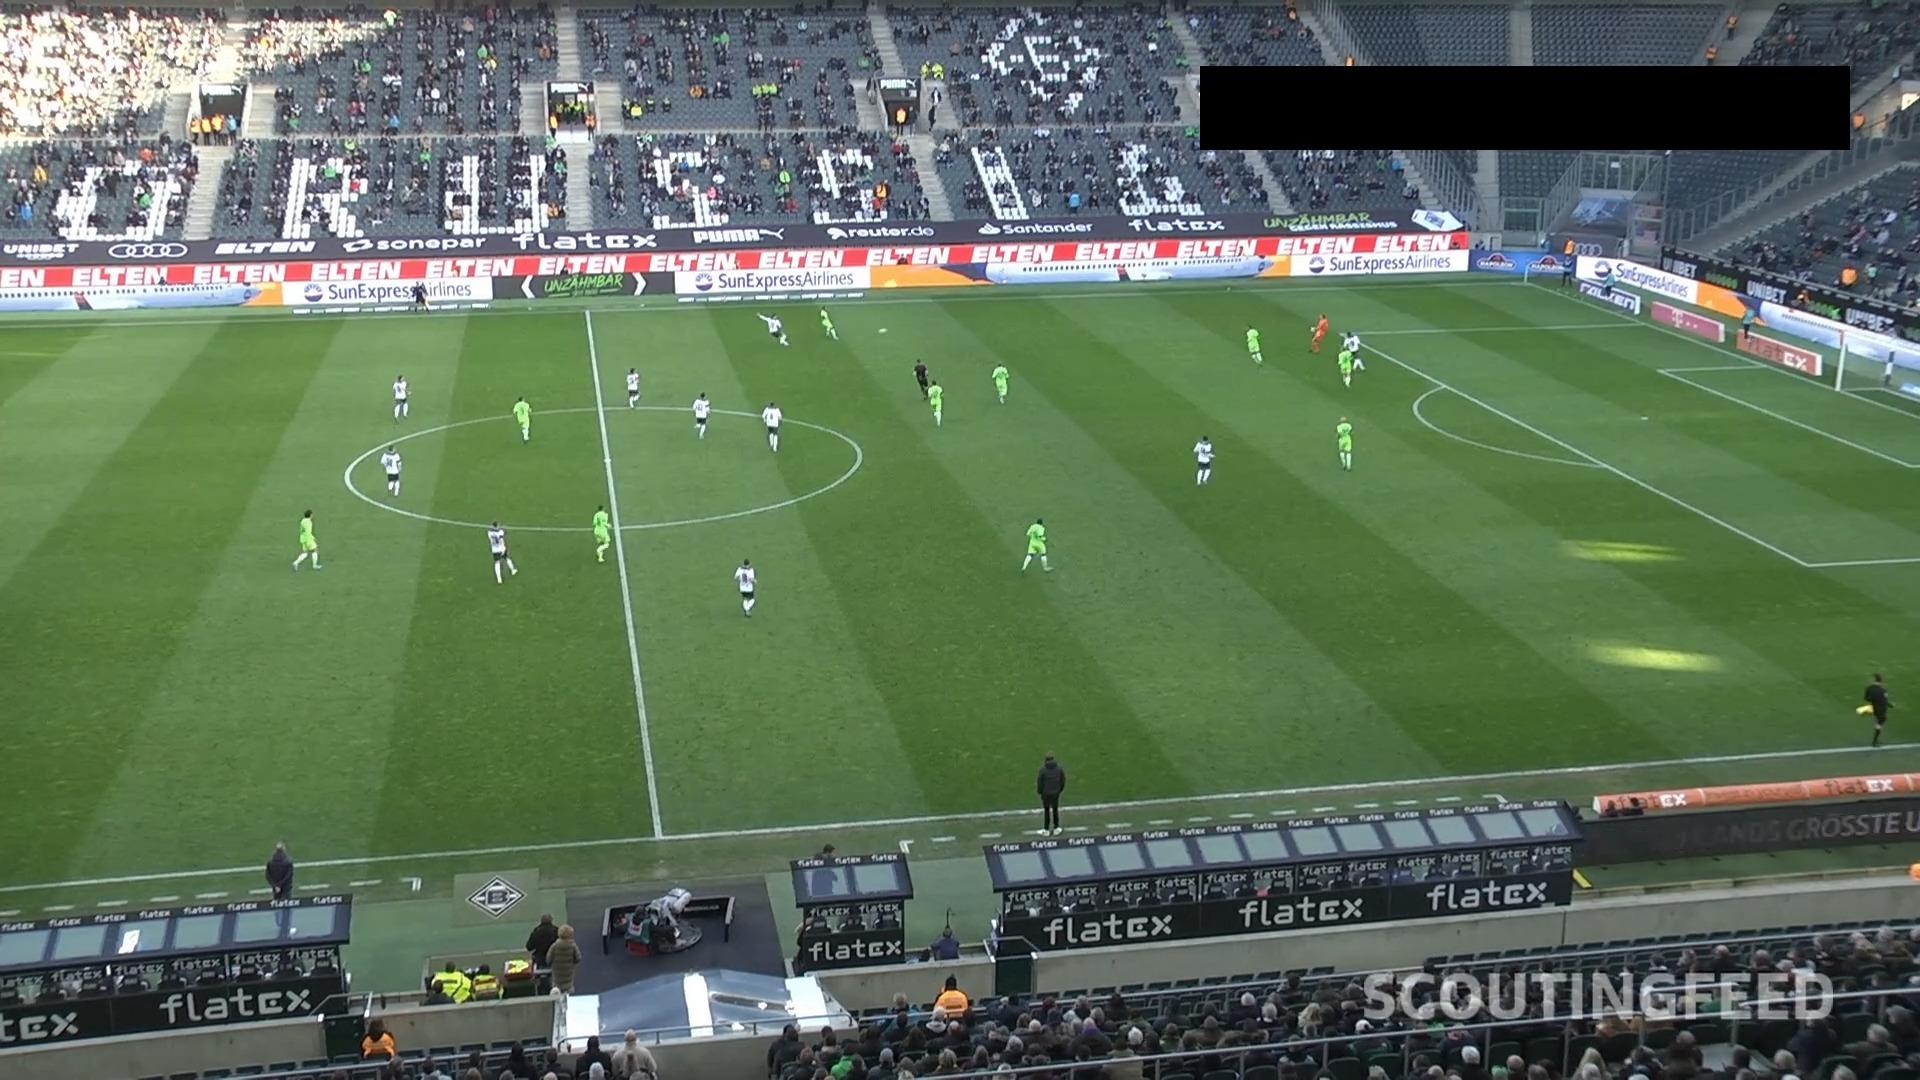coach: (1035, 752, 1065, 833), (264, 840, 293, 900)
player: (485, 519, 516, 584), (290, 508, 321, 571), (1020, 517, 1053, 572), (733, 558, 756, 616), (755, 310, 789, 346), (591, 504, 611, 562), (1192, 434, 1214, 485), (379, 444, 401, 495), (760, 401, 781, 452), (1340, 329, 1364, 373), (1335, 415, 1353, 470), (511, 395, 531, 442), (691, 391, 710, 439), (390, 374, 409, 421), (990, 361, 1009, 404), (1244, 323, 1263, 366), (925, 379, 942, 426), (1309, 312, 1328, 353), (1336, 346, 1354, 387), (817, 305, 838, 340), (624, 367, 640, 409)
referee: (1857, 671, 1894, 745), (525, 912, 557, 970), (408, 276, 432, 324), (911, 357, 929, 397)
